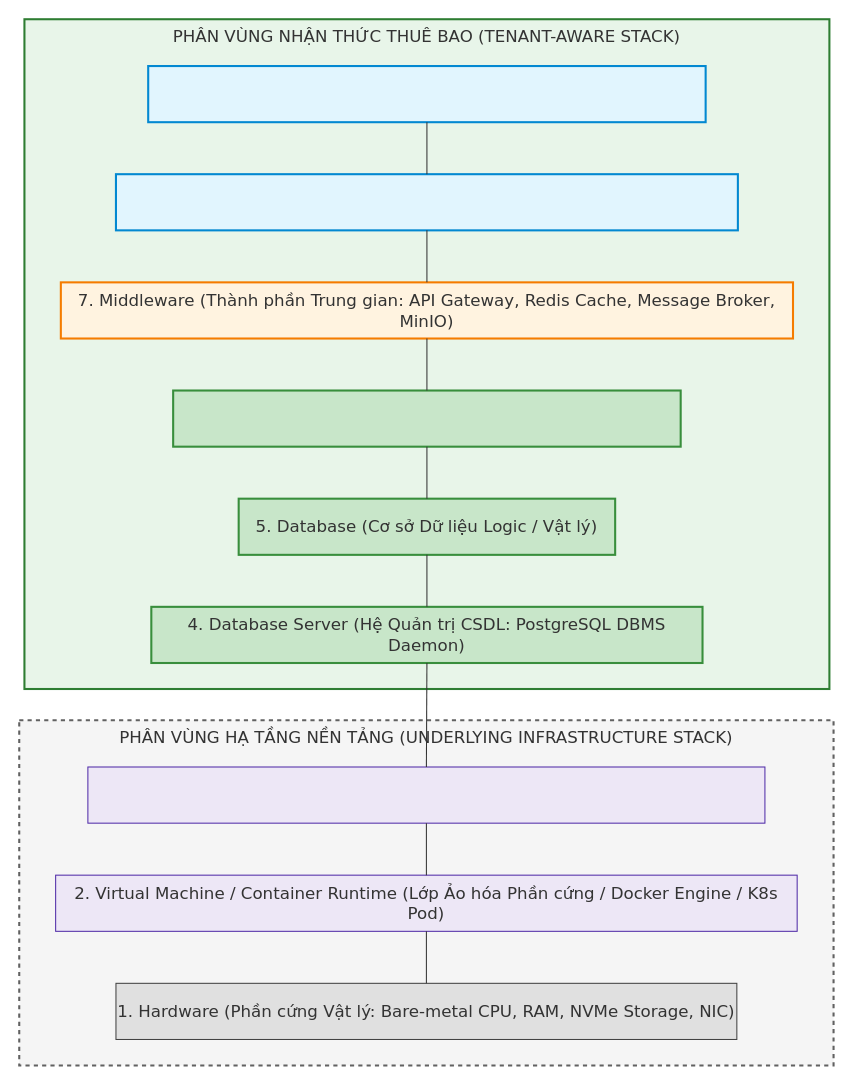
This 852x1084 diagram has some shape labels left out. The centre of each missing label's shape, as x and y in pixels:
3. Operating System (Hệ điều hành / Linux Host Kernel - Namespaces, cgroups v2): (426,794)
6. Database Schema (Không gian Tên / Lược đồ Bảng CSDL): (426,418)
8. Application Server (Runtime Môi trường Máy chủ: Node.js, JVM, Kestrel): (426,202)
9. Application Instance (Bản thể Ứng dụng Thực thi trong Bộ nhớ): (426,93)
